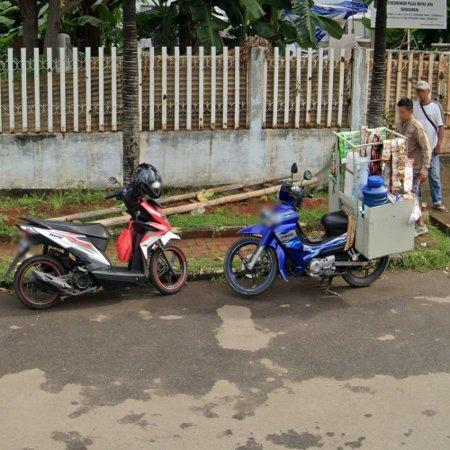motorcycles: (225, 183, 391, 297), (13, 224, 186, 310), (118, 220, 155, 262)
